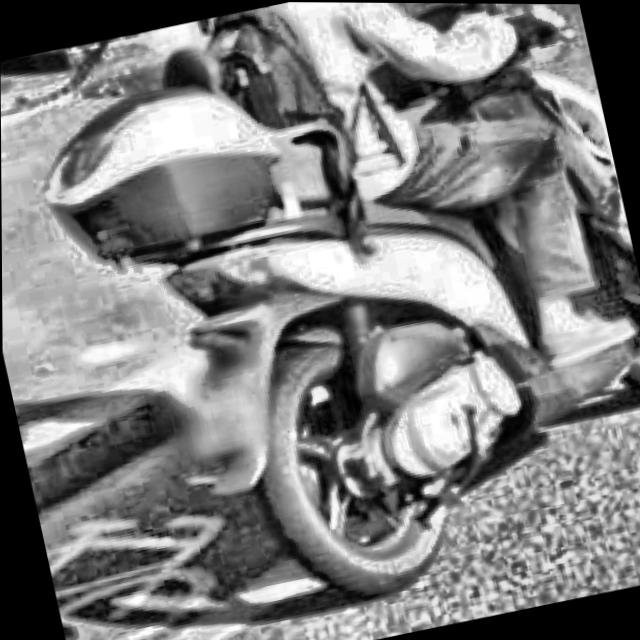motorcycle: (8, 0, 640, 640)
